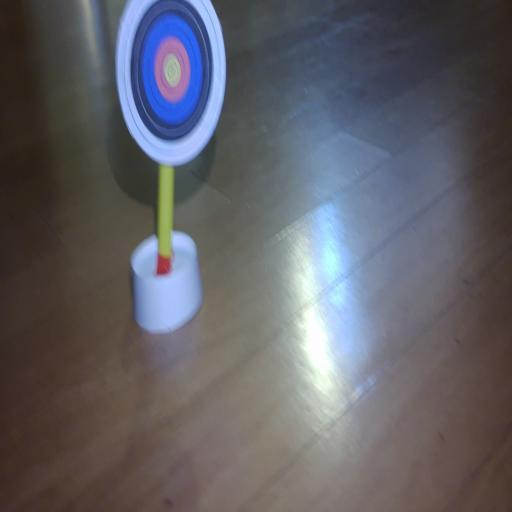target: (116, 0, 226, 165)
